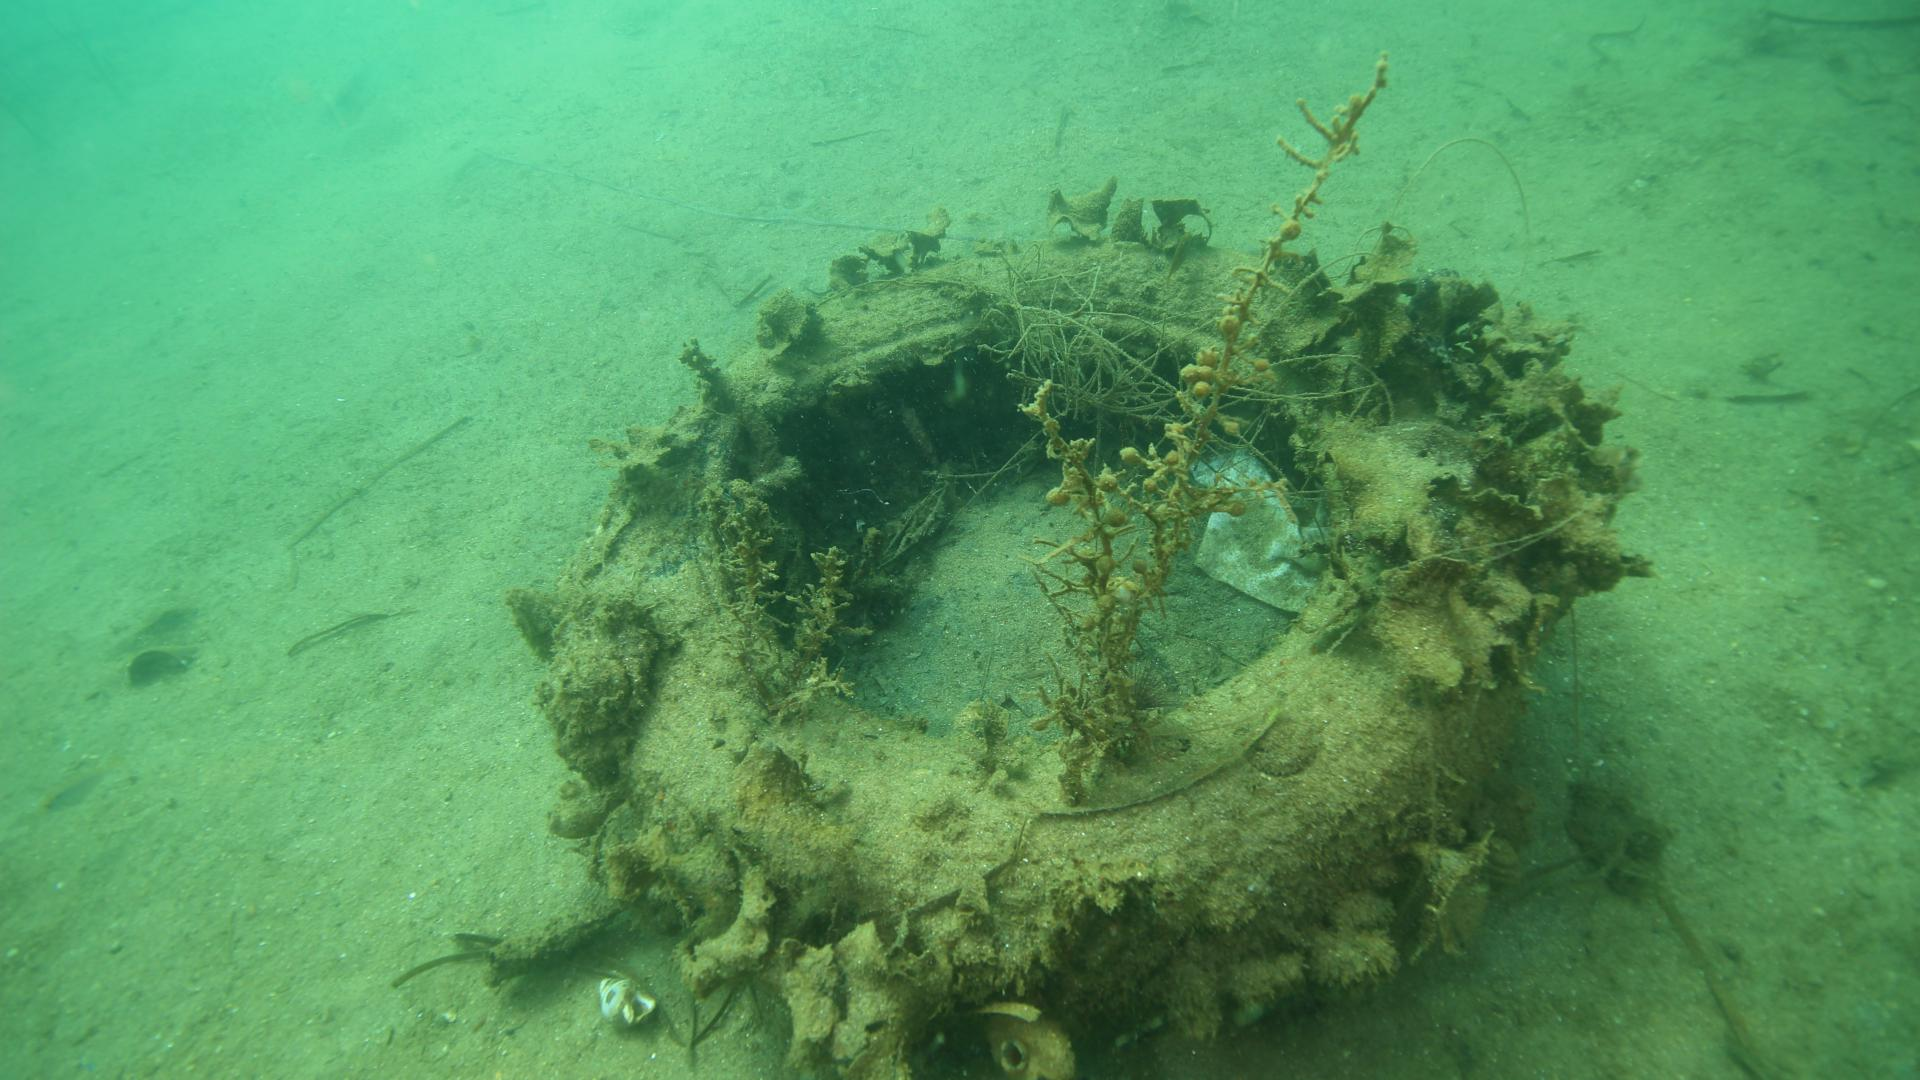tire: (582, 232, 1542, 1058)
